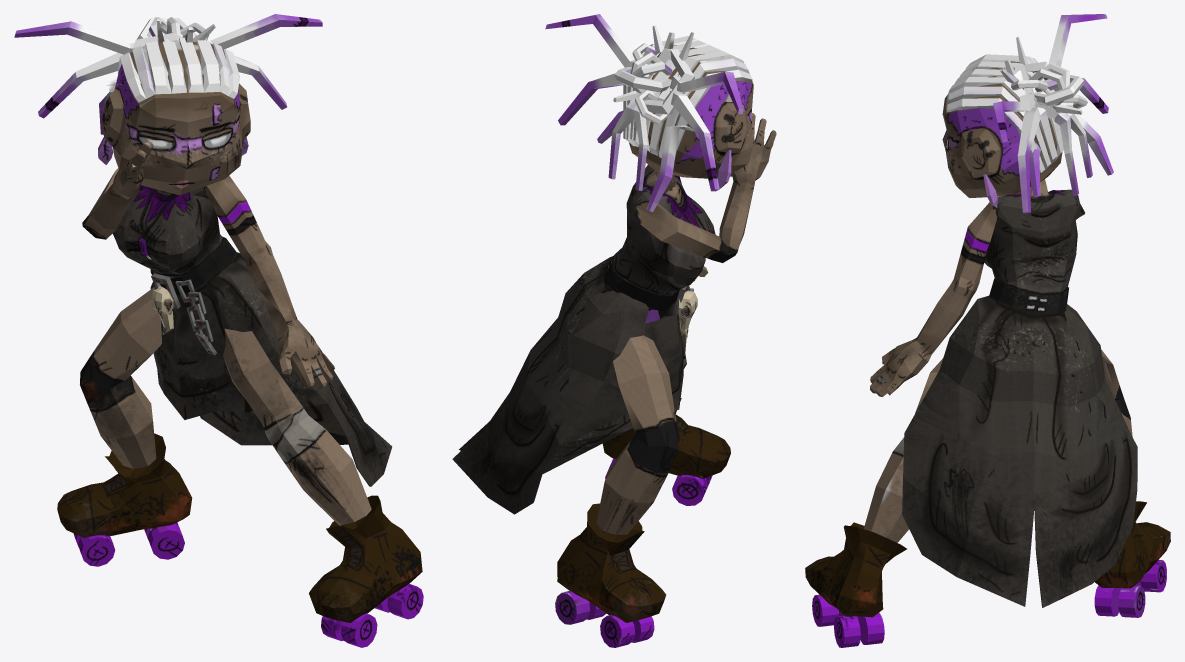
File: bruja_000038.obj
The picture shows the model from 3 angles, left to right: view 1: azimuth 30°, elevation 25°; view 2: azimuth 150°, elevation 25°; view 3: azimuth 270°, elevation 25°; orthographic projection. The views are drawn at different scales.
Visible parts, largest first — view 1: Bruja_Plane.001; view 2: Bruja_Plane.001; view 3: Bruja_Plane.001.
Boxes of the visible parts, box(x1,y1,x2,y2) form: Bruja_Plane.001: box(14, 14, 423, 647); Bruja_Plane.001: box(452, 14, 776, 647); Bruja_Plane.001: box(805, 14, 1170, 647).
Bounding box in the file's own units: 9.26 × 15.44 × 9.24.
